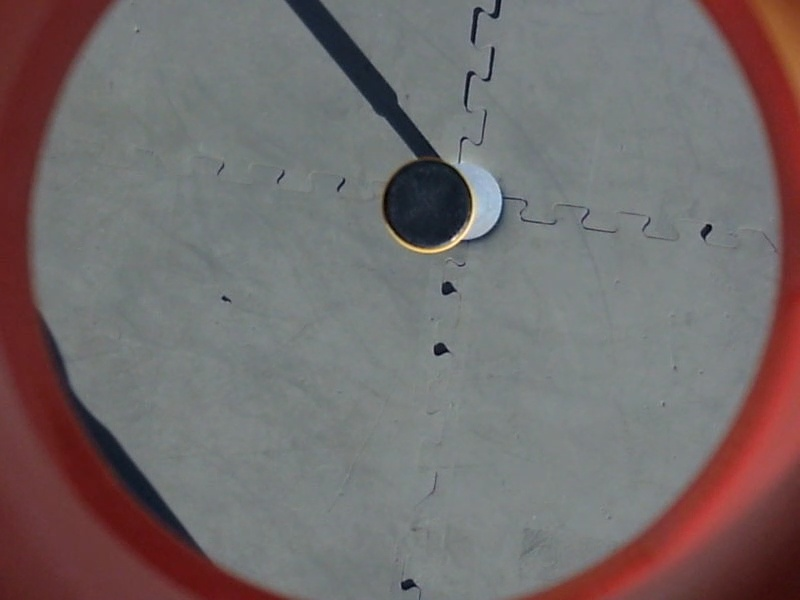tip: (376, 155, 475, 254)
